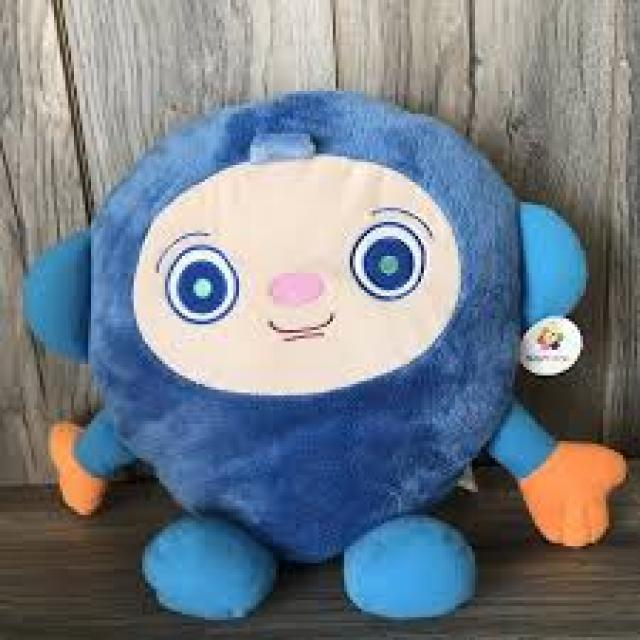soft-toy: (27, 94, 625, 620)
